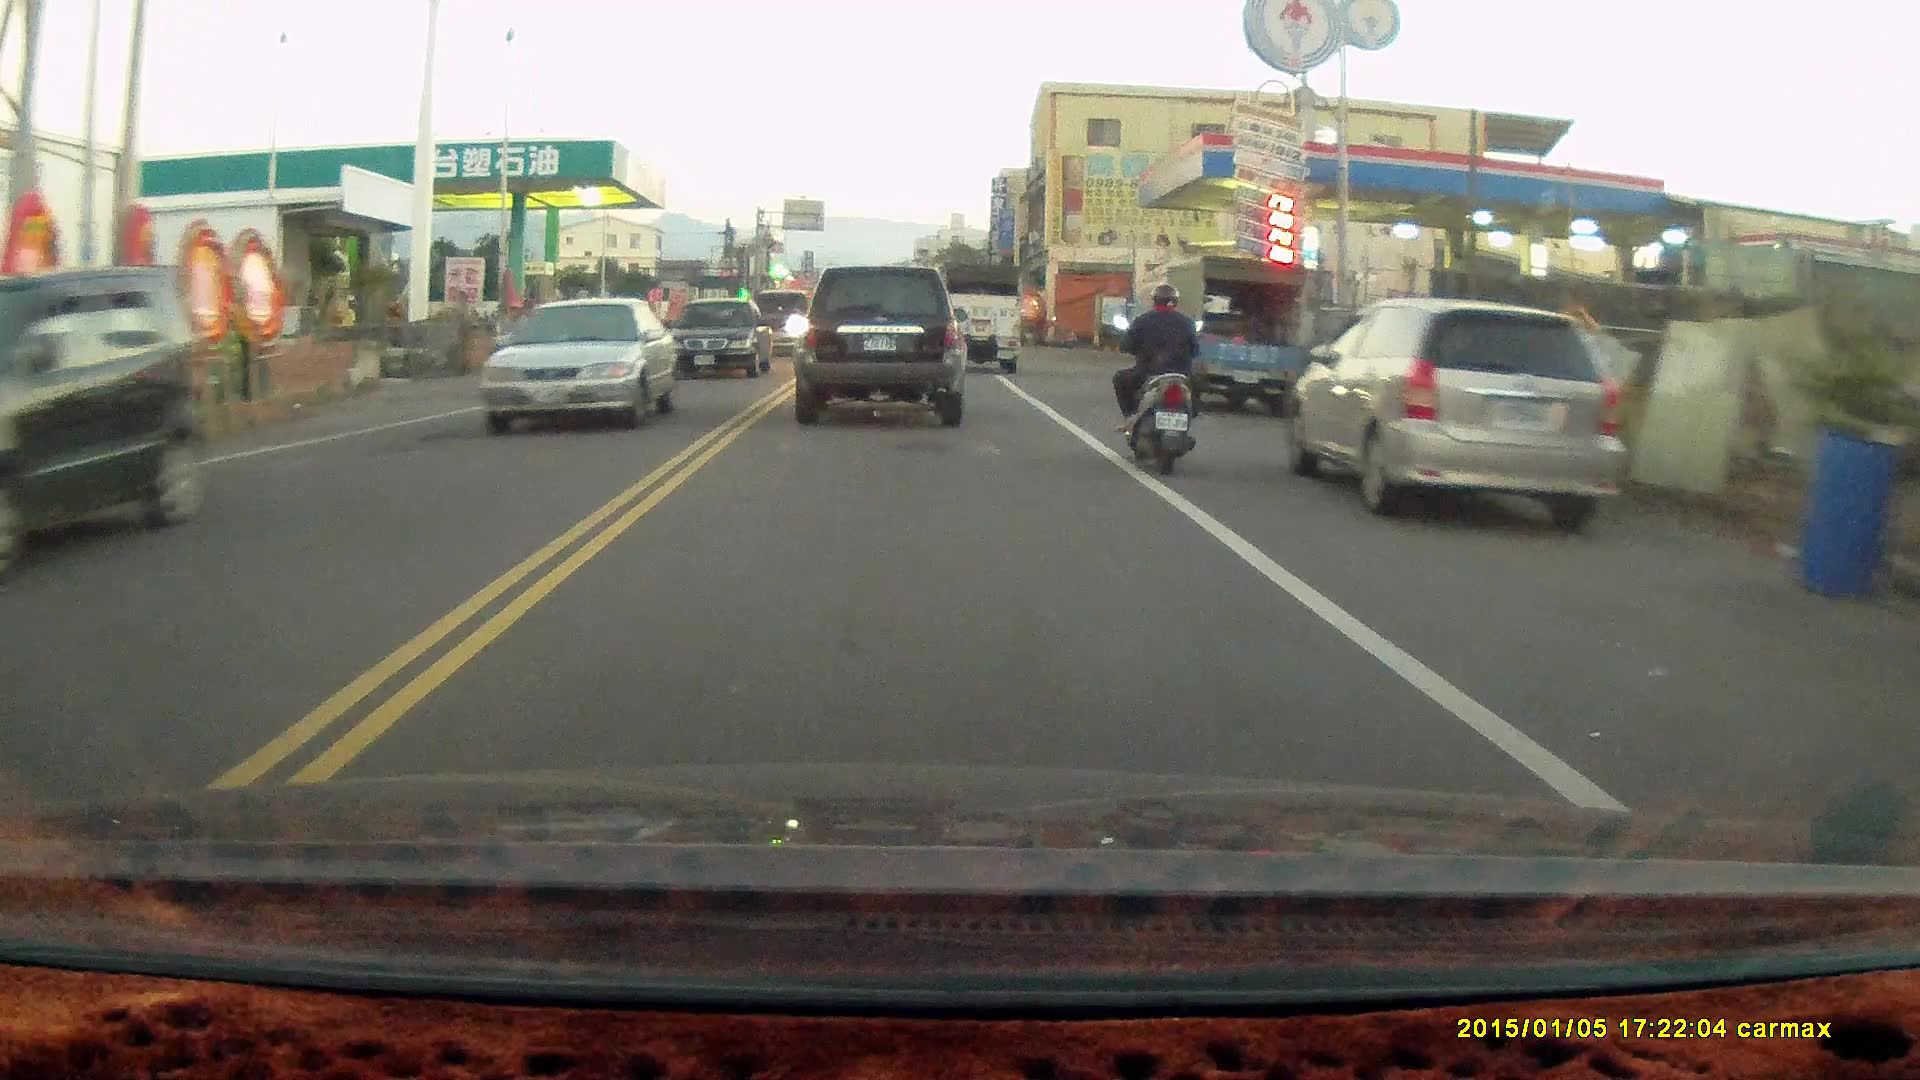rider: (1109, 281, 1207, 473)
vehicle: (1289, 296, 1623, 536), (2, 270, 226, 567), (479, 293, 680, 437), (795, 263, 968, 425), (1142, 256, 1302, 414), (937, 258, 1021, 373), (668, 297, 772, 375)
